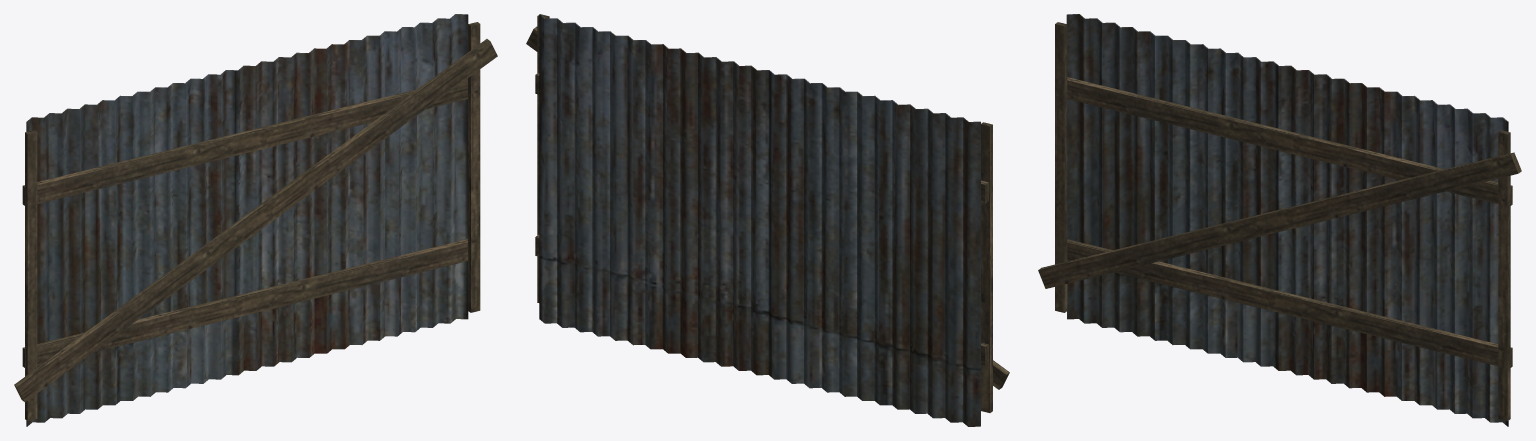
File: fence_b_1.obj
The picture shows the model from 3 angles, left to right: view 1: azimuth 30°, elevation 25°; view 2: azimuth 150°, elevation 25°; view 3: azimuth 330°, elevation 25°; orthographic projection.
Visible parts, largest first — view 1: fence_b_1; view 2: fence_b_1; view 3: fence_b_1.
Boxes of the visible parts, <box> form: fence_b_1: <box>14,14,497,426</box>; fence_b_1: <box>526,14,1009,426</box>; fence_b_1: <box>1038,14,1521,426</box>.
Bounding box in the file's own units: 4.03 × 2.44 × 0.1983.
